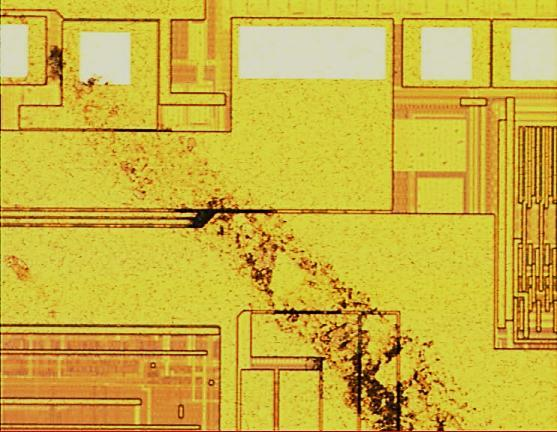SCRATCH: (1, 1, 509, 432)
